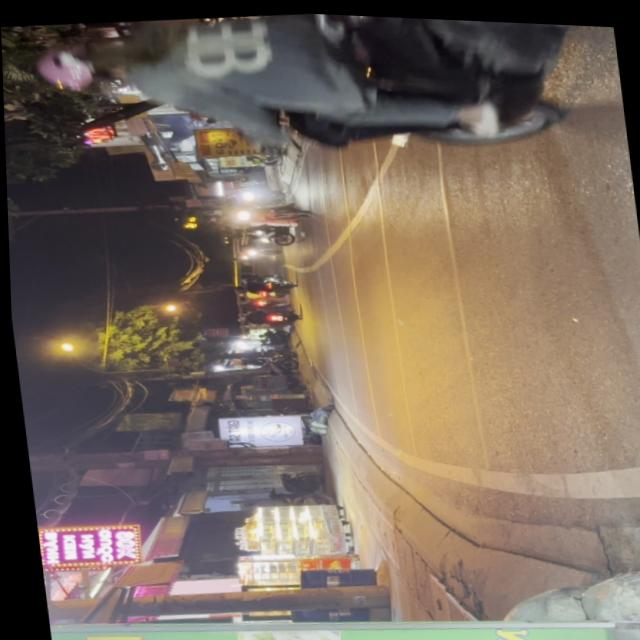helmet: (30, 36, 128, 96)
licenseplate: (22, 1, 625, 189)
